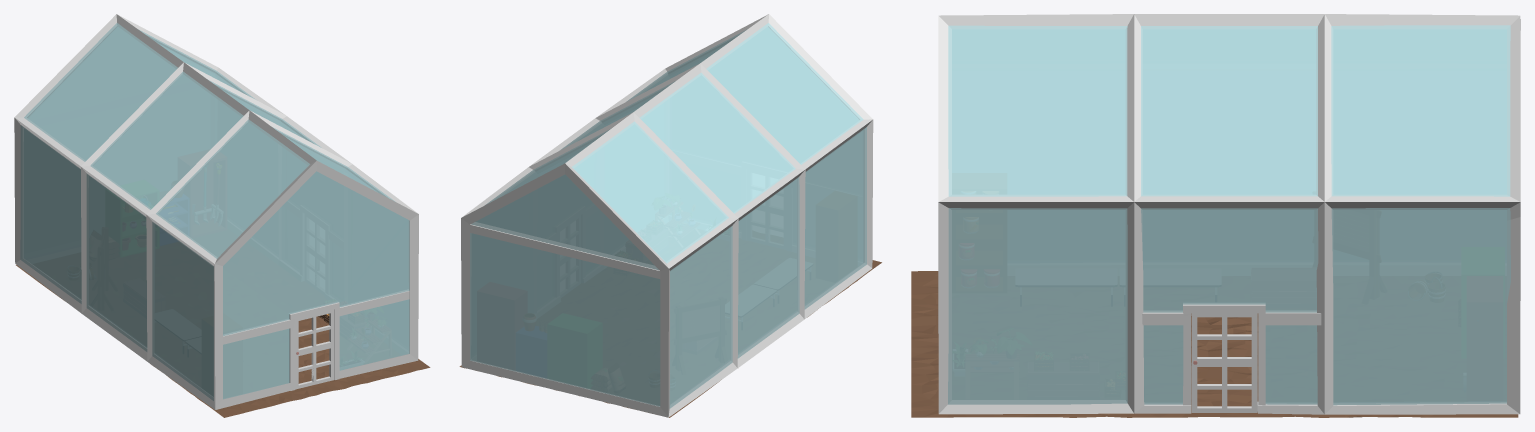
The model's file is Rumah Kaca.fbx.
The picture shows the model from 3 angles, left to right: view 1: azimuth 30°, elevation 25°; view 2: azimuth 150°, elevation 25°; view 3: azimuth 270°, elevation 25°; orthographic projection. The views are drawn at different scales.
Parts seen in each view (by area): view 1: RumahKaca, Landscape.001, Pintu1; view 2: RumahKaca; view 3: RumahKaca, Landscape.001, Pintu2.
Boxes of the visible parts, x1,y1,x2,y2 form: RumahKaca: (14, 14, 418, 409); Landscape.001: (16, 265, 430, 417); Pintu1: (295, 309, 334, 389); RumahKaca: (461, 14, 873, 417); RumahKaca: (938, 14, 1520, 414); Landscape.001: (911, 271, 1518, 417); Pintu2: (1191, 313, 1257, 412).
Size of the model in its own units: 869 by 910 by 1520.
